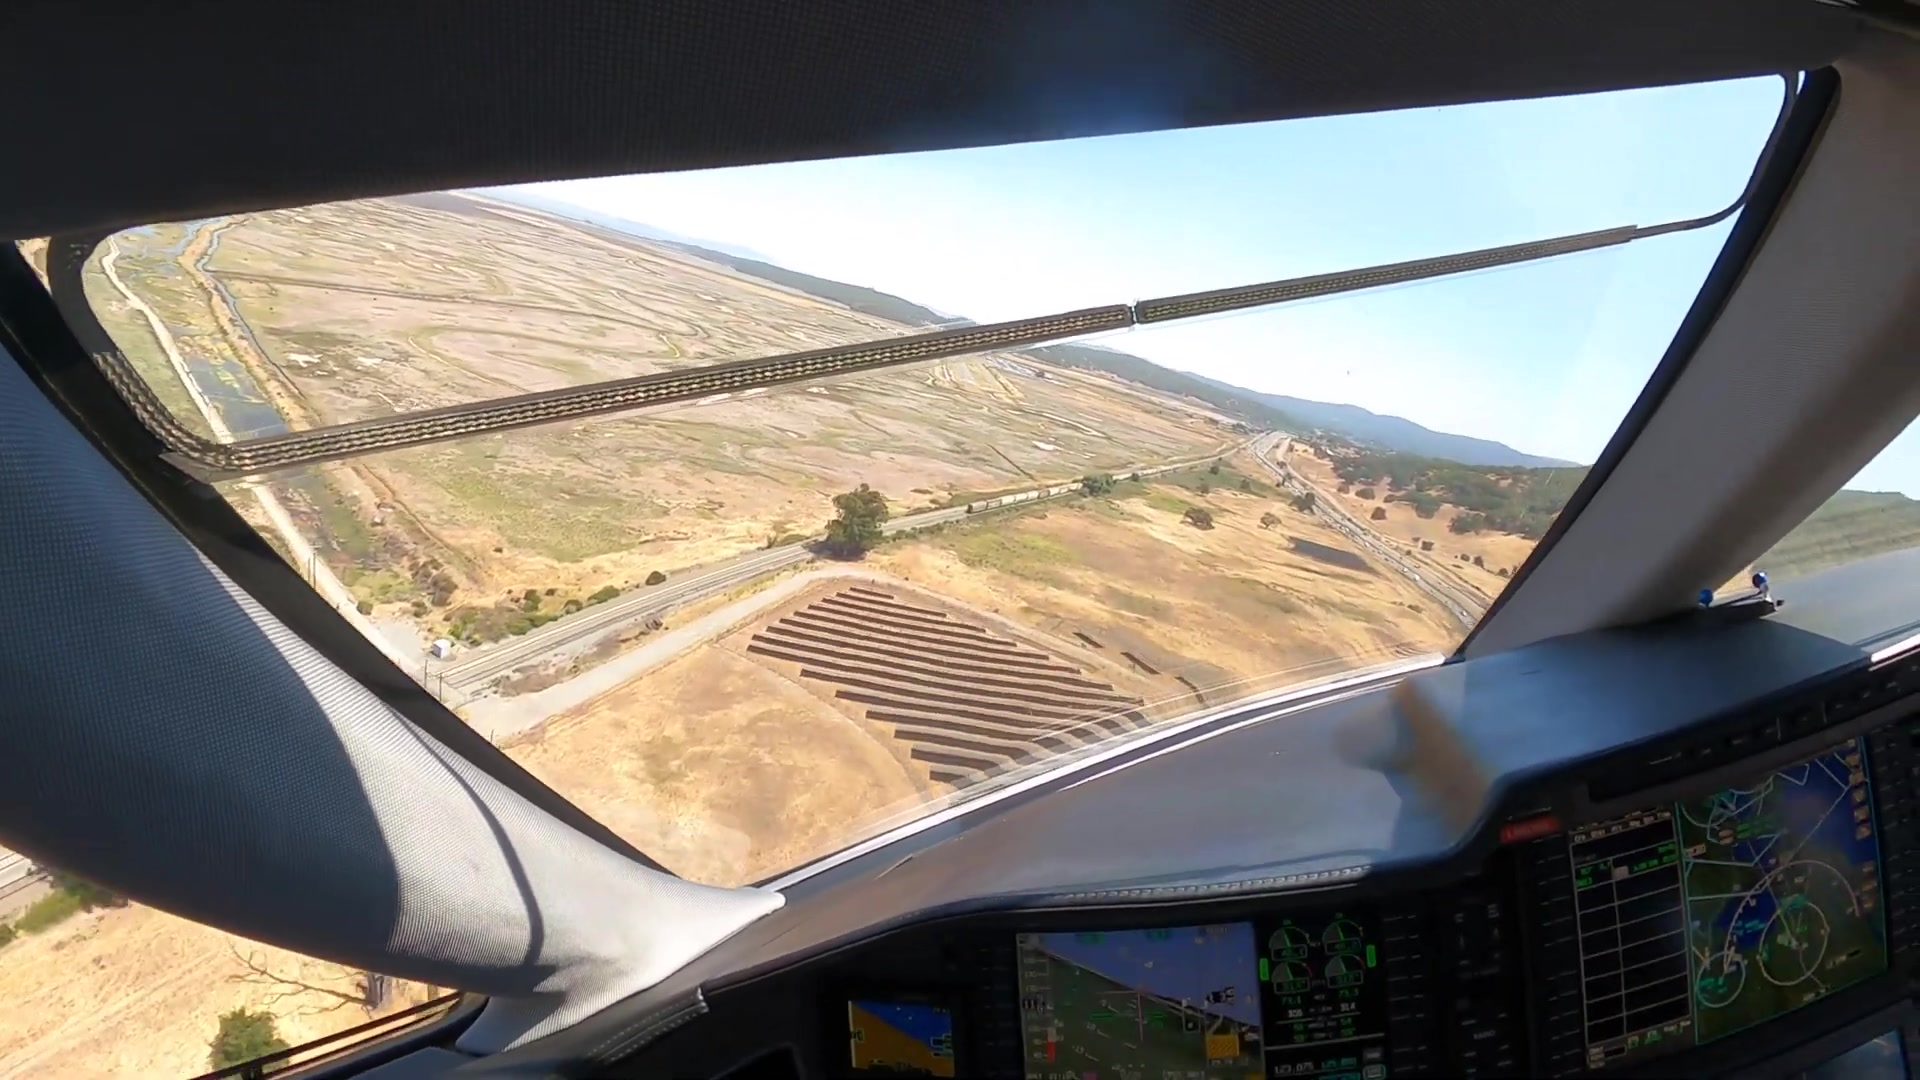runway: (953, 360, 978, 388)
